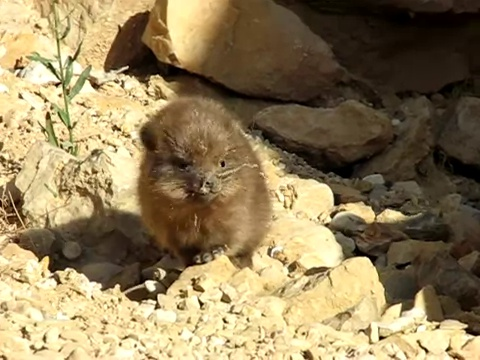Rock Hyrex: (137, 96, 270, 271)
